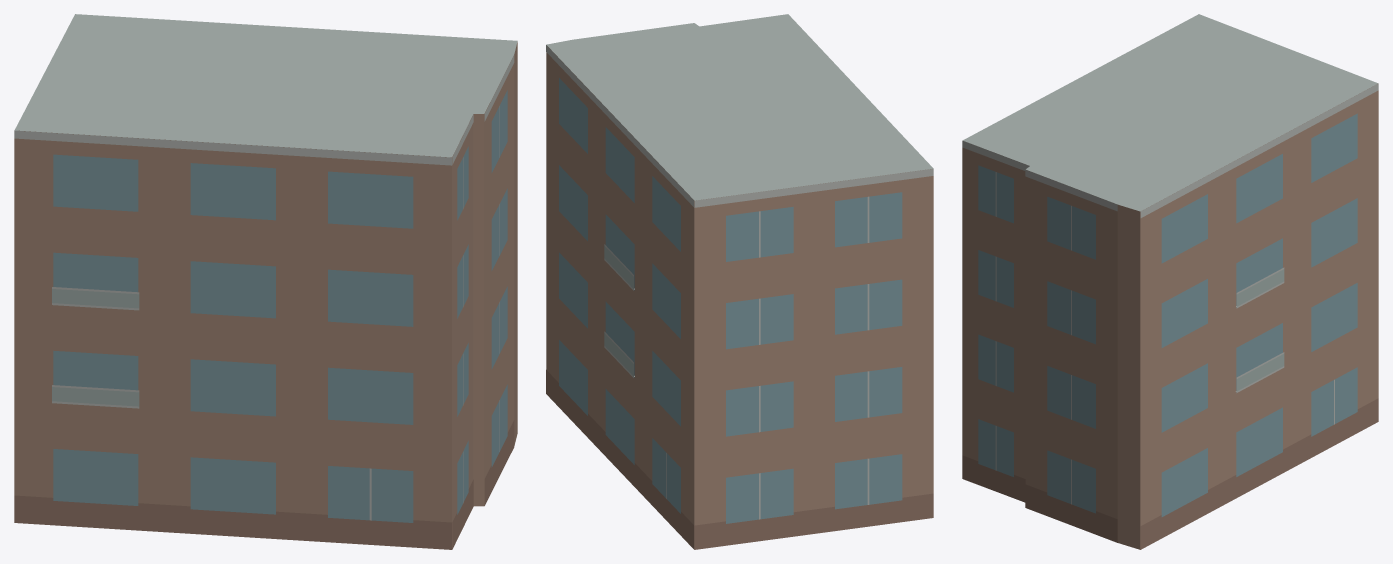
The model's file is survey-upis-33014697.glb.
3 renders of one model, left to right at view 1: azimuth 30°, elevation 25°; view 2: azimuth 150°, elevation 25°; view 3: azimuth 270°, elevation 25°, orthographic. The views are drawn at different scales.
Parts seen in each view (by area): view 1: survey-upis-33014697.tmp; view 2: survey-upis-33014697.tmp; view 3: survey-upis-33014697.tmp.
Part boxes in pixels (bbox=[...]): survey-upis-33014697.tmp: bbox=[14, 14, 517, 549]; survey-upis-33014697.tmp: bbox=[546, 14, 933, 549]; survey-upis-33014697.tmp: bbox=[962, 14, 1378, 549].
Bounding box in the file's own units: 14.78 × 11.8 × 13.16.
